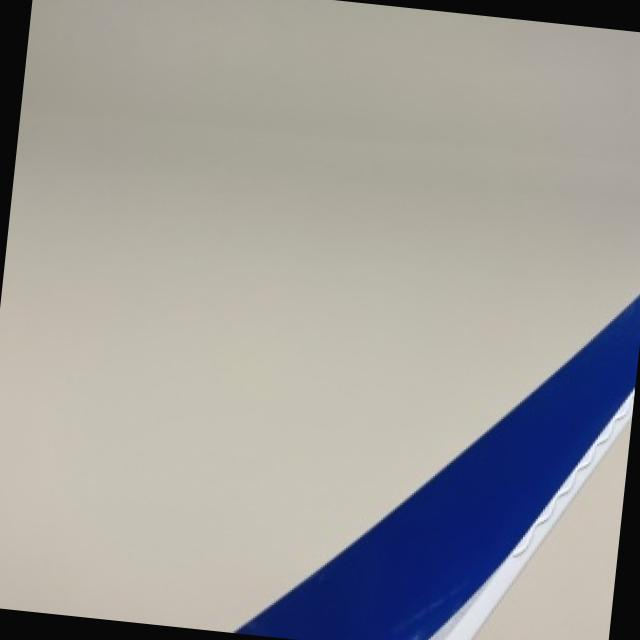healthy: (234, 292, 640, 640)
